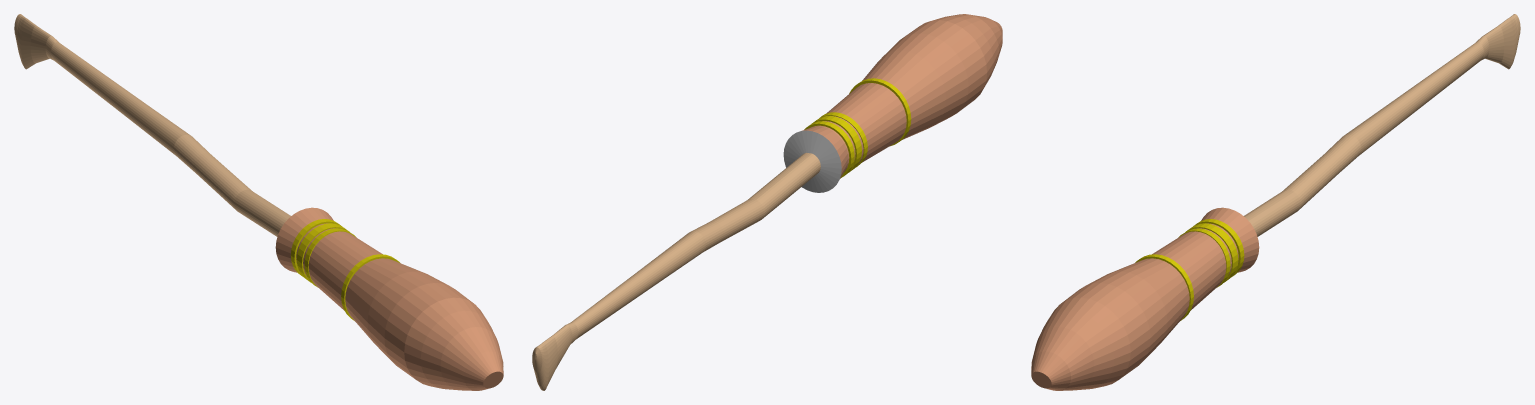
File: BroomUV.fbx
3 views of the same model, side by side, from view 1: azimuth 30°, elevation 25°; view 2: azimuth 150°, elevation 25°; view 3: azimuth 330°, elevation 25° (orthographic). The views are drawn at different scales.
Visible parts, largest first — view 1: Cylinder; view 2: Cylinder; view 3: Cylinder.
Part boxes in pixels (x1,y1,x2,y2): Cylinder: [14, 14, 503, 390]; Cylinder: [532, 14, 1002, 390]; Cylinder: [1031, 14, 1520, 390].
Size of the model in its own units: 22.07 by 22.07 by 218.
